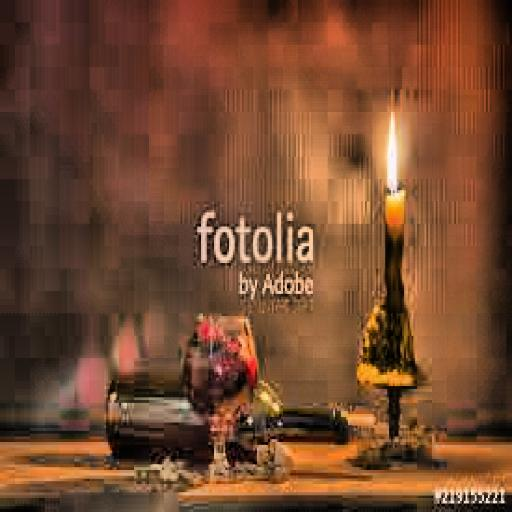fire: (370, 106, 410, 196)
